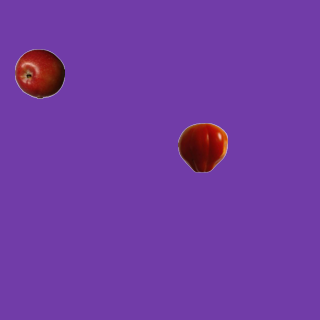Apple Braeburn: (14, 48, 64, 98)
Tomato 1: (177, 122, 227, 172)
